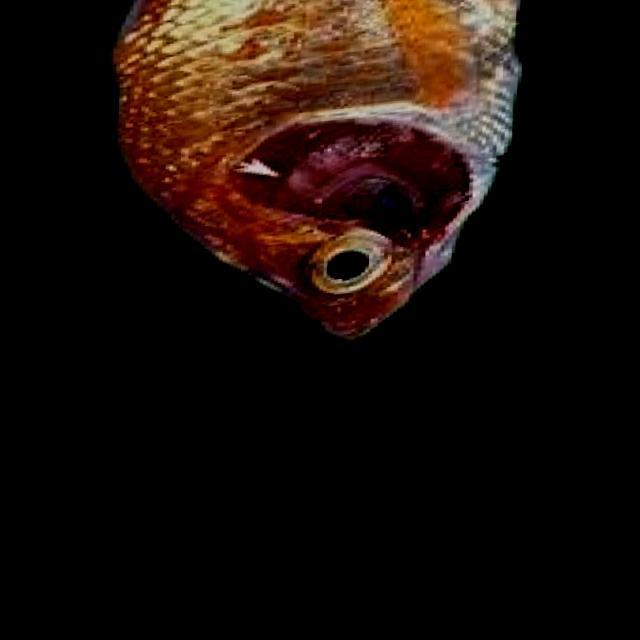Gill Disease: (120, 3, 520, 344)
